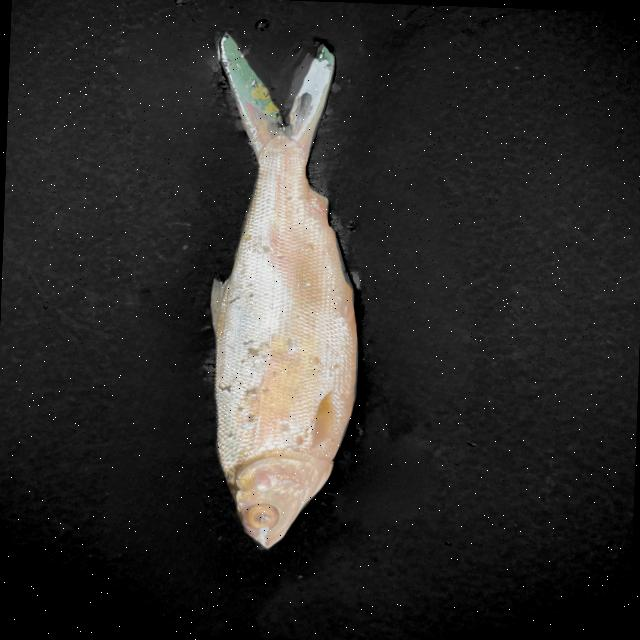600 g: (202, 29, 368, 550)
